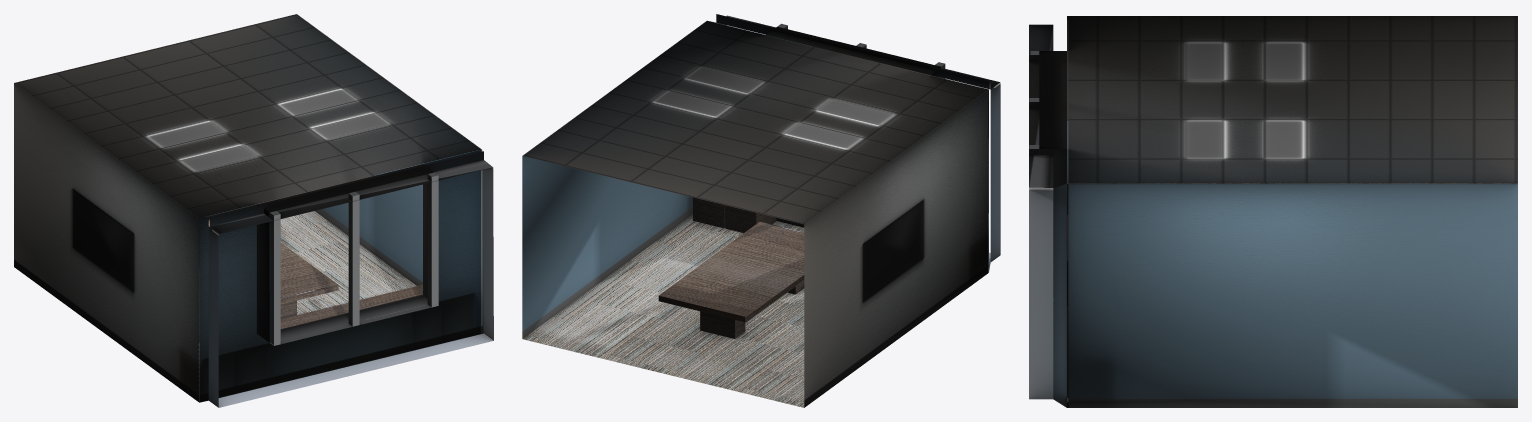
Rendered from room2026_2.glb.
3 renders of one model, left to right at view 1: azimuth 30°, elevation 25°; view 2: azimuth 150°, elevation 25°; view 3: azimuth 270°, elevation 25°, orthographic. The views are drawn at different scales.
Visible parts, largest first — view 1: room_1; view 2: room_1; view 3: room_1.
Part boxes in pixels (left/top/right/bottom): room_1: left=14, top=14, right=493, bottom=407; room_1: left=522, top=14, right=1000, bottom=407; room_1: left=1029, top=16, right=1517, bottom=407.
Bounding box in the file's own units: 4.9 × 3.11 × 6.03.
Materials: 1 (1 with a texture image).
